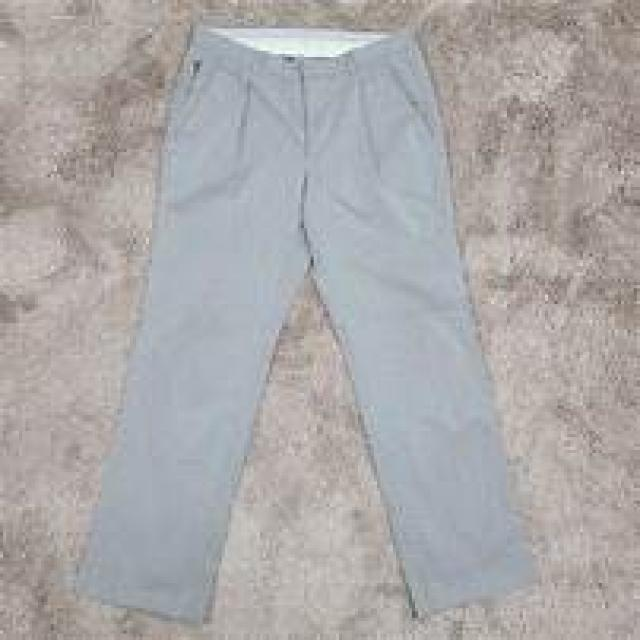long-pants: (70, 25, 539, 628)
